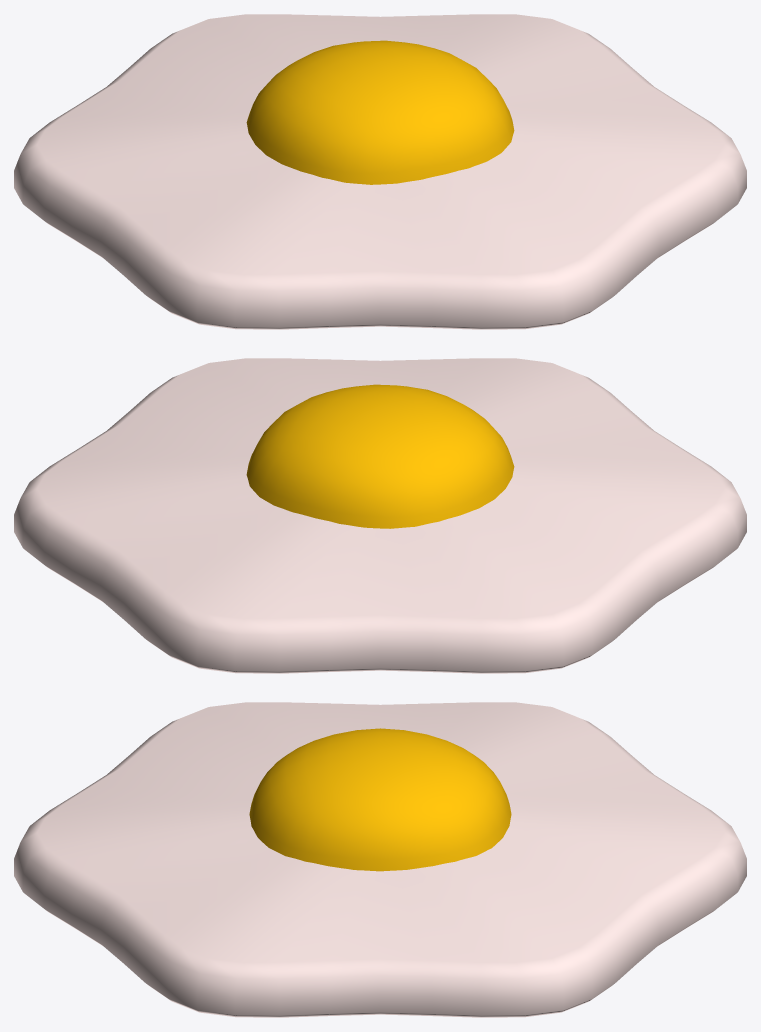
The model's file is Store_18_Fried_Egg_1.glb.
3 renders of one model, top to bottom at view 1: azimuth 30°, elevation 25°; view 2: azimuth 150°, elevation 25°; view 3: azimuth 270°, elevation 25°, orthographic.
Visible parts, largest first — view 1: Store_18_Fried_Egg_1; view 2: Store_18_Fried_Egg_1; view 3: Store_18_Fried_Egg_1.
Boxes of the visible parts, x1,y1,x2,y2 form: Store_18_Fried_Egg_1: (14,14,746,329); Store_18_Fried_Egg_1: (14,358,746,673); Store_18_Fried_Egg_1: (14,702,746,1017).
Bounding box in the file's own units: 0.2622 × 0.0572 × 0.2911.
1 material, 1 textured.
